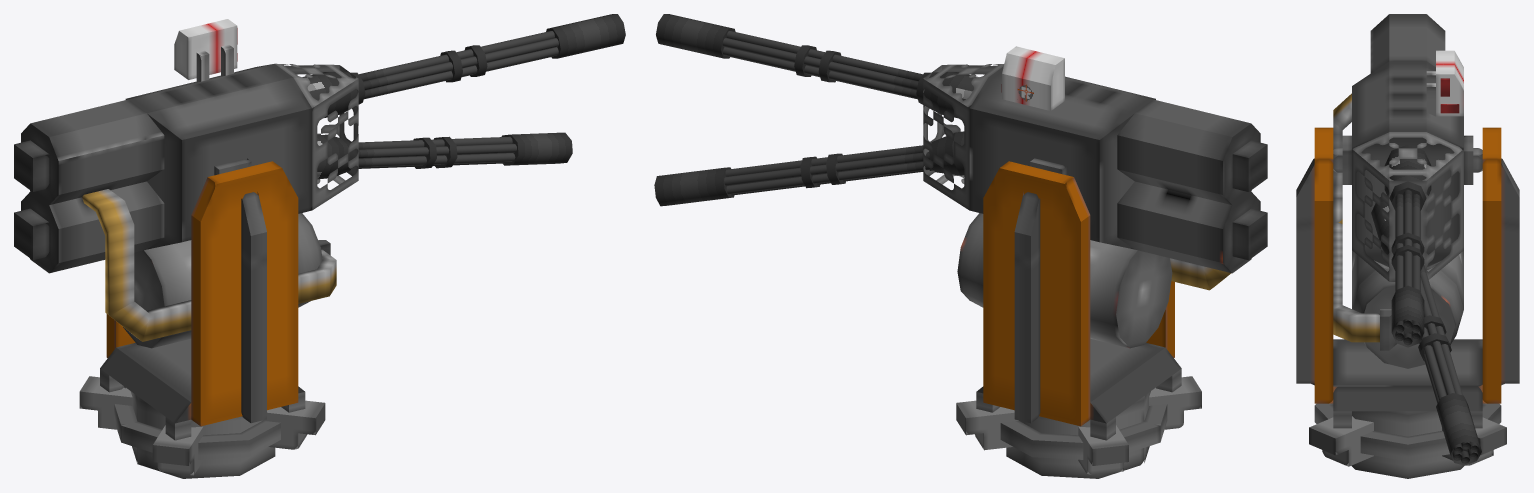
File: turret_howard_damaged.obj
3 renders of one model, left to right at view 1: azimuth 30°, elevation 25°; view 2: azimuth 150°, elevation 25°; view 3: azimuth 270°, elevation 25°, orthographic.
Visible parts, largest first — view 1: Body, Carriage, BarrelsTop, BarrelsBottom; view 2: Body, Carriage, BarrelsTop, BarrelsBottom; view 3: Carriage, Body, BarrelsTop, BarrelsBottom.
Part boxes in pixels (x1=…): Body: x1=14, y1=19, x2=358, y2=348; Carriage: x1=79, y1=161, x2=325, y2=478; BarrelsTop: x1=302, y1=14, x2=625, y2=118; BarrelsBottom: x1=317, y1=132, x2=572, y2=179; Body: x1=923, y1=46, x2=1267, y2=348; Carriage: x1=956, y1=161, x2=1201, y2=478; BarrelsTop: x1=656, y1=14, x2=979, y2=118; BarrelsBottom: x1=654, y1=131, x2=964, y2=206; Carriage: x1=1296, y1=127, x2=1519, y2=478; Body: x1=1333, y1=14, x2=1482, y2=368; BarrelsTop: x1=1384, y1=144, x2=1431, y2=347; BarrelsBottom: x1=1371, y1=197, x2=1481, y2=465.
Bounding box in the file's own units: 4.56 × 2.94 × 1.5.
